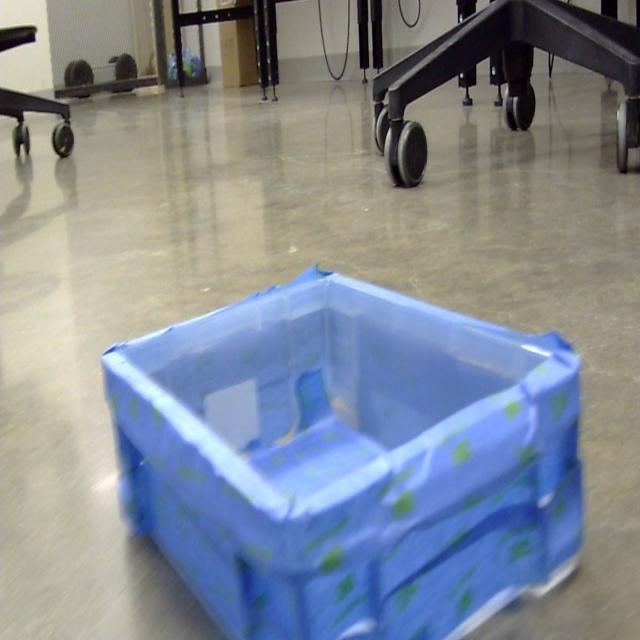bucket: (100, 266, 586, 640)
